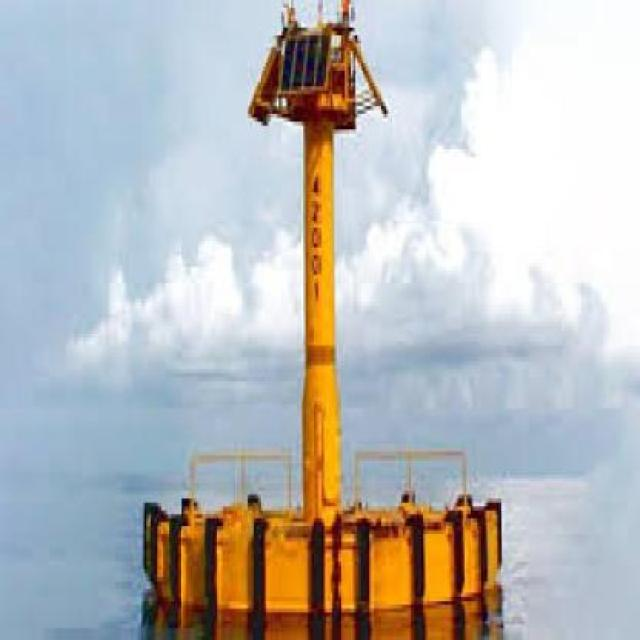buoy: (125, 13, 517, 637)
